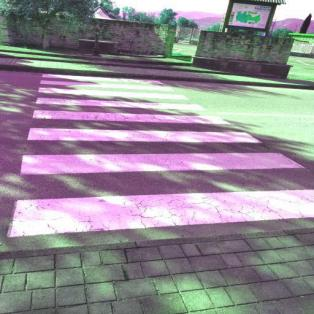Paso de Cebra: (18, 108, 268, 146), (35, 78, 189, 102)
